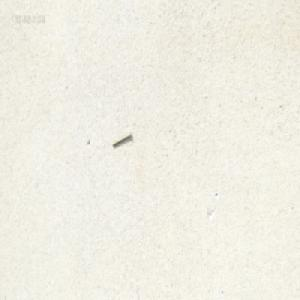Bolt: (111, 131, 131, 147)
